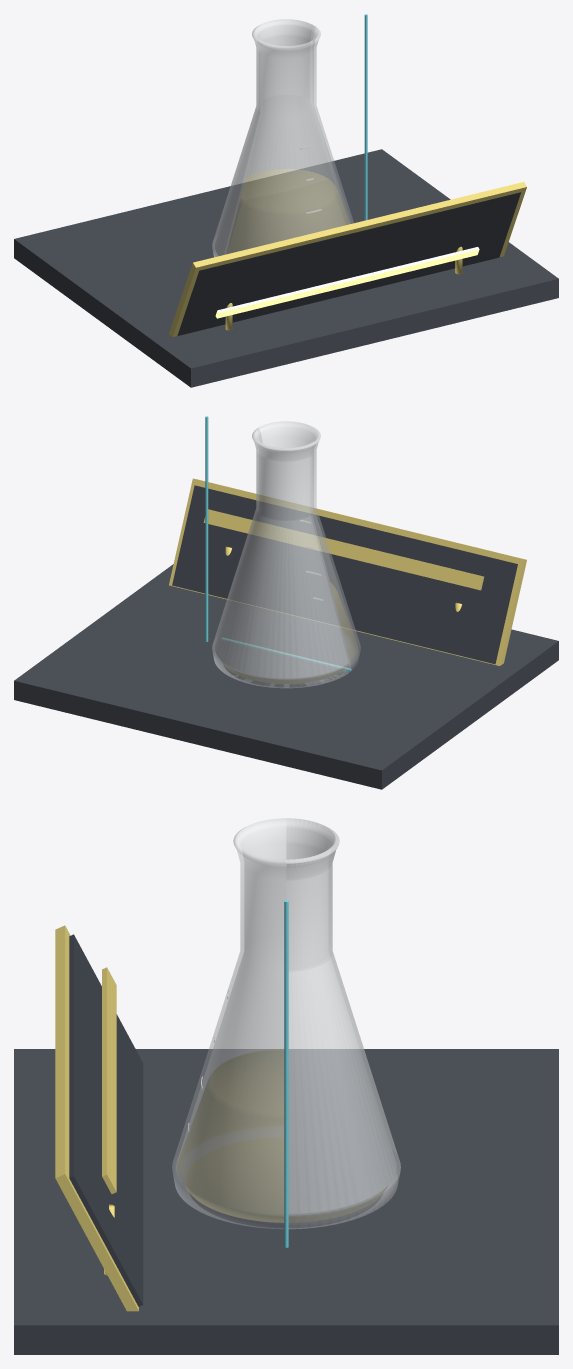
File: conical-flask.glb
3 renders of one model, top to bottom at view 1: azimuth 30°, elevation 25°; view 2: azimuth 150°, elevation 25°; view 3: azimuth 270°, elevation 25°, orthographic. The views are drawn at different scales.
Parts seen in each view (by area): view 1: Sec_Plinth, conical-flask_Plinth, conical-flask_Body, Sec_Plaque_Board, Sec_Plaque_Frame, Sec_Flask_Body, Sec_Plaque_Bar_2, Sec_Caliper_H; view 2: Sec_Plinth, Sec_Plaque_Board, conical-flask_Body, Sec_Flask_Body, conical-flask_Plinth, Sec_Plaque_Title, Sec_Plaque_Frame, Sec_Caliper_H, conical-flask_Liquid; view 3: Sec_Plinth, conical-flask_Body, Sec_Flask_Body, Sec_Plaque_Board, conical-flask_Liquid, Sec_Plaque_Frame, Sec_Plaque_Title, conical-flask_Plinth, Sec_Caliper_H.
Boxes of the visible parts, x1,y1,x2,y2 form: Sec_Plinth: [14, 149, 558, 387]; conical-flask_Plinth: [35, 153, 543, 383]; conical-flask_Body: [212, 19, 353, 256]; Sec_Plaque_Board: [177, 192, 521, 335]; Sec_Plaque_Frame: [169, 182, 526, 336]; Sec_Flask_Body: [212, 19, 315, 256]; Sec_Plaque_Bar_2: [215, 247, 479, 318]; Sec_Caliper_H: [364, 14, 367, 220]; Sec_Plinth: [14, 564, 558, 789]; Sec_Plaque_Board: [172, 485, 517, 664]; conical-flask_Body: [212, 421, 360, 687]; Sec_Flask_Body: [212, 428, 350, 687]; conical-flask_Plinth: [29, 584, 536, 784]; Sec_Plaque_Title: [203, 509, 484, 590]; Sec_Plaque_Frame: [169, 478, 526, 665]; Sec_Caliper_H: [205, 416, 208, 641]; conical-flask_Liquid: [330, 582, 357, 662]; Sec_Plinth: [14, 1049, 558, 1354]; conical-flask_Body: [172, 818, 400, 1229]; Sec_Flask_Body: [286, 818, 400, 1229]; Sec_Plaque_Board: [69, 934, 143, 1306]; conical-flask_Liquid: [177, 1049, 283, 1222]; Sec_Plaque_Frame: [55, 925, 138, 1311]; Sec_Plaque_Title: [102, 967, 116, 1193]; conical-flask_Plinth: [14, 1060, 558, 1291]; Sec_Caliper_H: [284, 900, 288, 1247].
Size of the model in its own units: 0.24 by 0.153 by 0.2.
